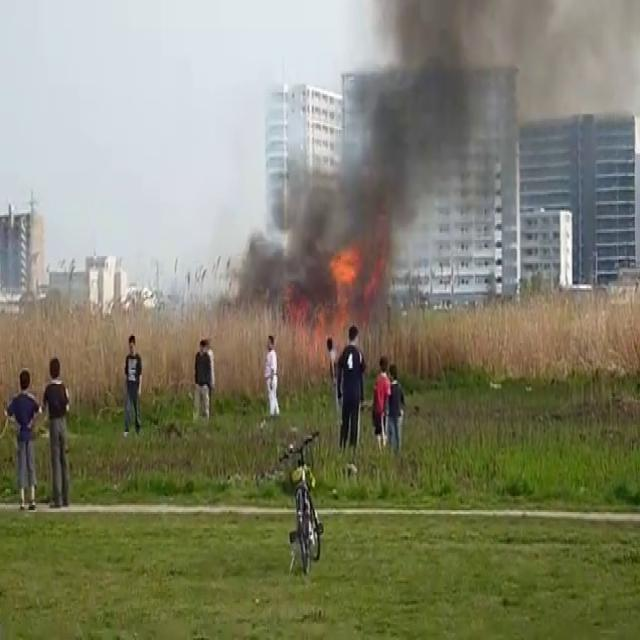Fire: (327, 244, 367, 307)
Smoke: (254, 0, 482, 293), (465, 0, 637, 208)
